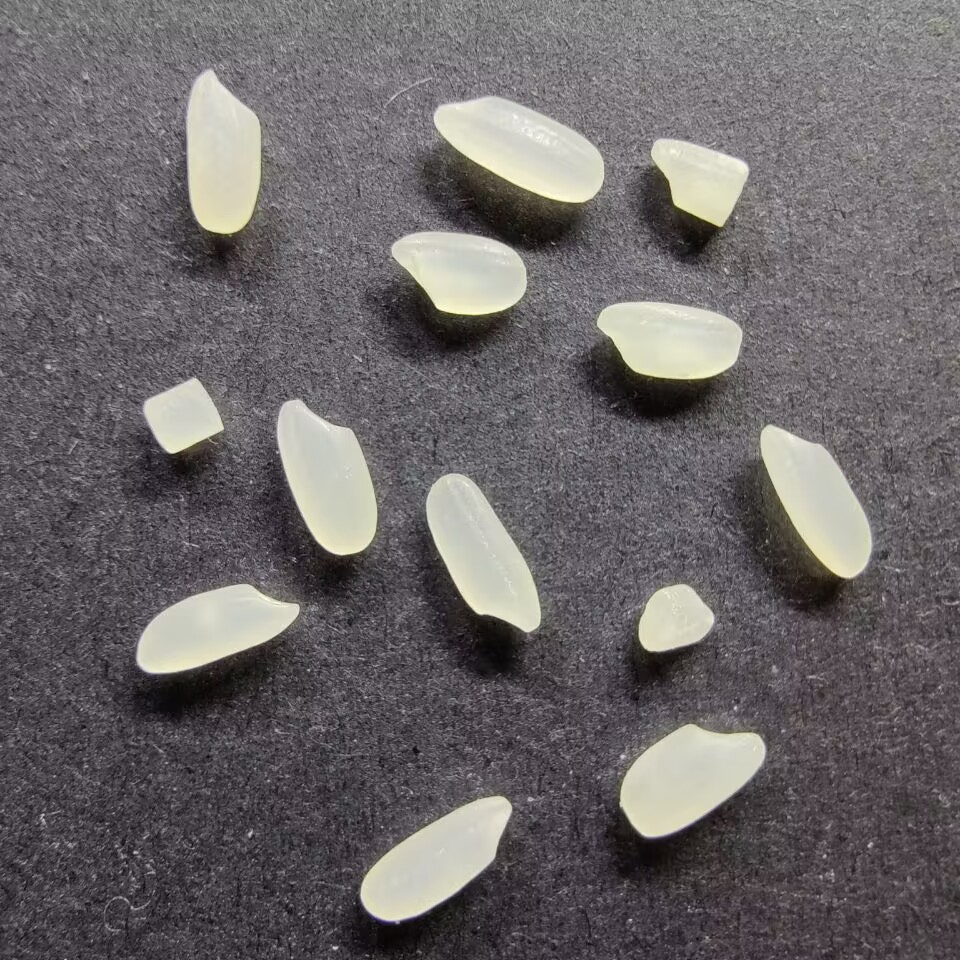broken: (648, 135, 752, 229), (138, 376, 227, 455), (636, 582, 718, 655)
rice: (357, 792, 511, 923), (423, 471, 544, 634), (431, 94, 607, 205), (759, 423, 877, 582), (616, 720, 768, 841), (271, 397, 381, 557), (133, 581, 300, 675), (183, 68, 262, 238), (596, 300, 745, 382), (387, 230, 528, 315)
